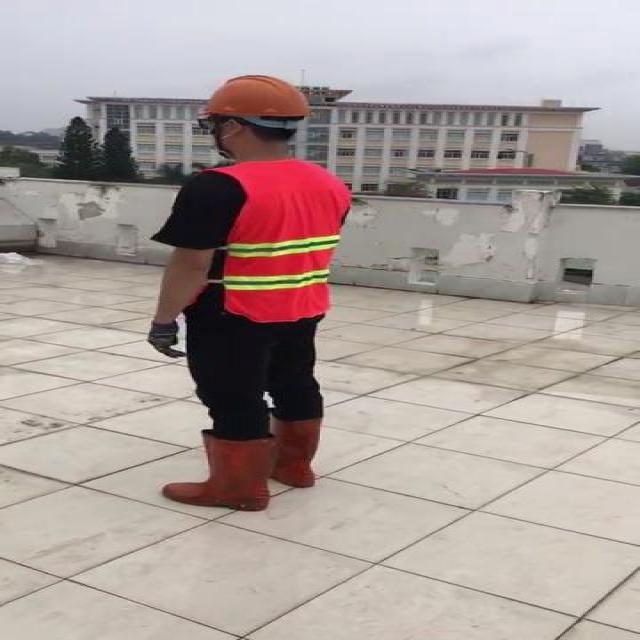boots: (162, 432, 274, 512), (270, 411, 326, 489)
hand_glove: (140, 316, 187, 363)
head_helmet: (197, 72, 316, 122)
person: (141, 71, 359, 516)
vest: (206, 157, 347, 325)
